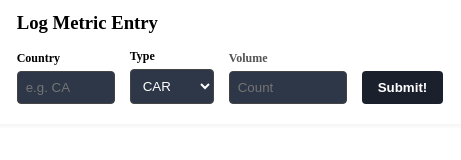
Test: TrafficForm › all test of data for data insertion
The image size is (461, 160).
Check: the number field with placeholder "Count" is shown, box [229,71,347,104]
Type "US" into the field with placeholder "e.g. CA".
click(66, 88); type("US")  # box [17,71,115,104]
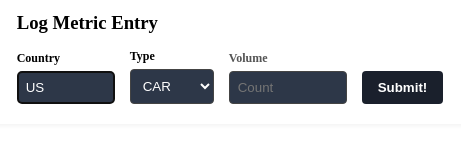
Type "5000" into the number field with placeholder "Count".
click(288, 88); type("5000")  # box [229,71,347,104]
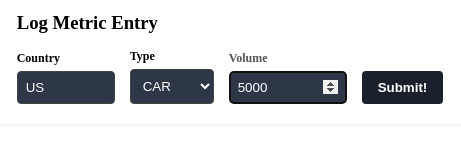
Select "CAR" in the dropdown at (172, 86), box [130,69,214,104]
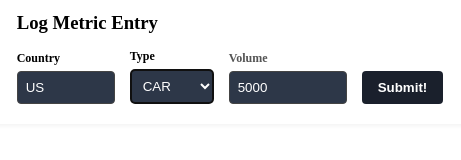
Click the button "Submit!".
click(402, 88)  # box [362,71,443,104]
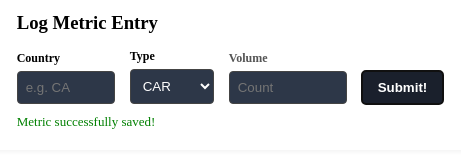
Check: the text "Metric successfully saved!" is shown, box [17,114,155,129]
Check: the field with placeholder "e.g. CA" is empty, box [17,71,115,104]
Check: the number field with placeholder "Count" is not empty, box [229,71,347,104]
